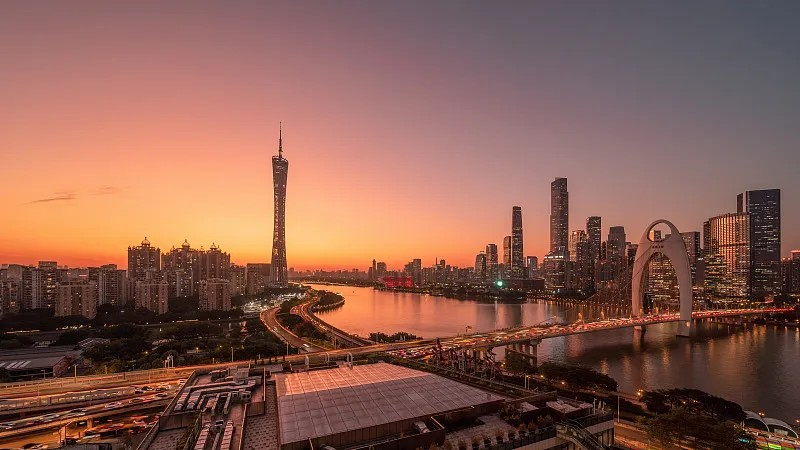Canton: (269, 117, 290, 289)
